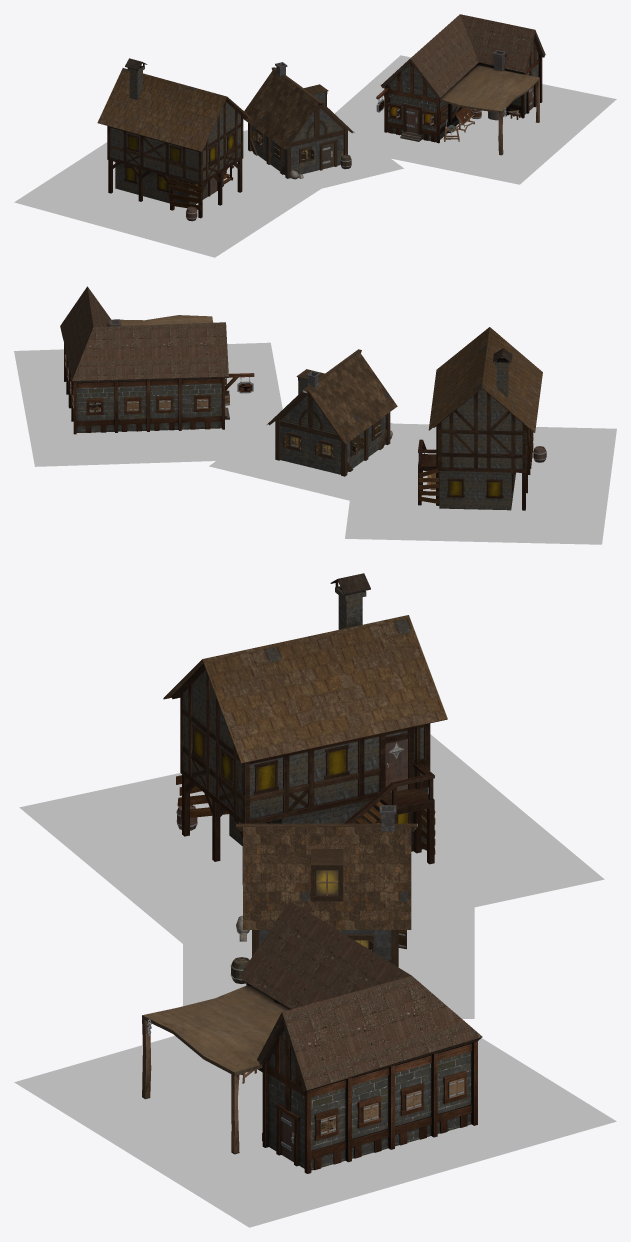
Rendered from Houses.fbx.
The picture shows the model from 3 angles, top to bottom: view 1: azimuth 30°, elevation 25°; view 2: azimuth 150°, elevation 25°; view 3: azimuth 270°, elevation 25°; orthographic projection. The views are drawn at different scales.
Visible parts, largest first — view 1: Plane.003, Plane.005, BaseSkeleton.001, BaseBody.002, House_01.001, Skeleton.001, OutSkeleton.001, Plane.001, Door...001, House_01_Windows.001, Props.001, Props_02.001 (+1 smaller); view 2: Plane.003, BaseSkeleton.001, Plane.005, BaseBody.002, House_01.001, Plane.001, Skeleton.001, OutSkeleton.001, Door...001, Windows.001, House_01_Windows.001; view 3: Plane.005, BaseSkeleton.001, Plane.003, BaseBody.002, House_01.001, Skeleton.001, Plane.001, OutSkeleton.001, Door...001, Windows.001, House_01_Windows.001.
Boxes of the visible parts, box(x1,y1,x2,y2) form: Plane.003: box(14, 142, 337, 257); Plane.005: box(334, 55, 616, 184); BaseSkeleton.001: box(380, 14, 545, 155); BaseBody.002: box(97, 58, 252, 204); House_01.001: box(243, 62, 354, 178); Skeleton.001: box(107, 101, 243, 218); OutSkeleton.001: box(376, 40, 542, 143); Plane.001: box(243, 130, 403, 188); Door...001: box(124, 132, 235, 196); House_01_Windows.001: box(252, 84, 337, 170); Props.001: box(471, 50, 520, 120); Props_02.001: box(443, 107, 506, 141); Plane.003: box(345, 423, 616, 544); BaseSkeleton.001: box(60, 286, 229, 432); Plane.005: box(14, 342, 282, 466); BaseBody.002: box(428, 327, 542, 510); House_01.001: box(267, 349, 397, 476); Plane.001: box(209, 421, 392, 500); Skeleton.001: box(418, 392, 533, 510); OutSkeleton.001: box(64, 343, 254, 434); Door...001: box(418, 428, 528, 503); Windows.001: box(65, 351, 229, 415); House_01_Windows.001: box(283, 369, 381, 459); Plane.005: box(14, 1036, 616, 1227); BaseSkeleton.001: box(142, 900, 482, 1170); Plane.003: box(19, 734, 604, 964); BaseBody.002: box(163, 573, 447, 851); House_01.001: box(236, 805, 417, 967); Skeleton.001: box(176, 671, 434, 884); Plane.001: box(183, 907, 474, 1018); OutSkeleton.001: box(246, 982, 477, 1173); Door...001: box(192, 724, 435, 854); Windows.001: box(314, 1071, 467, 1140); House_01_Windows.001: box(311, 849, 406, 952).
Size of the model in its own units: 5117 by 1138 by 2580.
